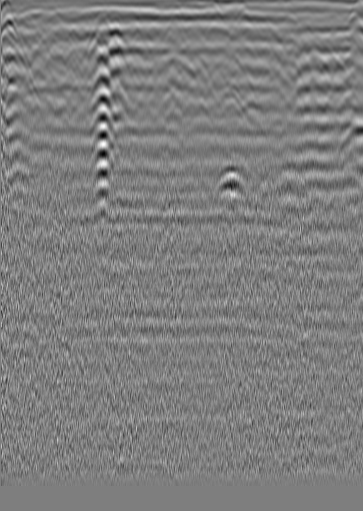가스: (205, 160, 257, 194)
상수: (300, 30, 320, 50)
오수: (23, 32, 51, 58)
우수: (150, 50, 196, 78)
